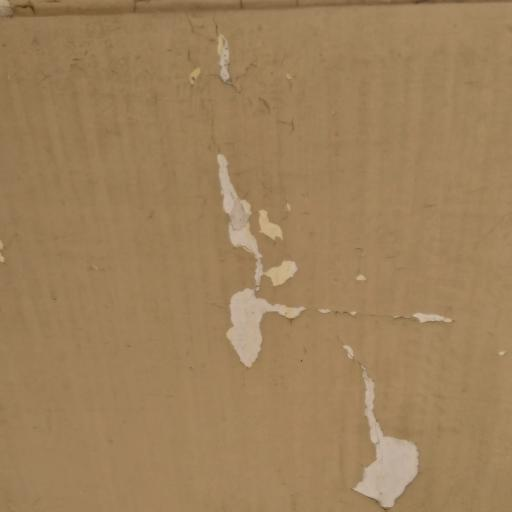peeling: (204, 123, 476, 364), (332, 326, 438, 512), (178, 4, 263, 108)
